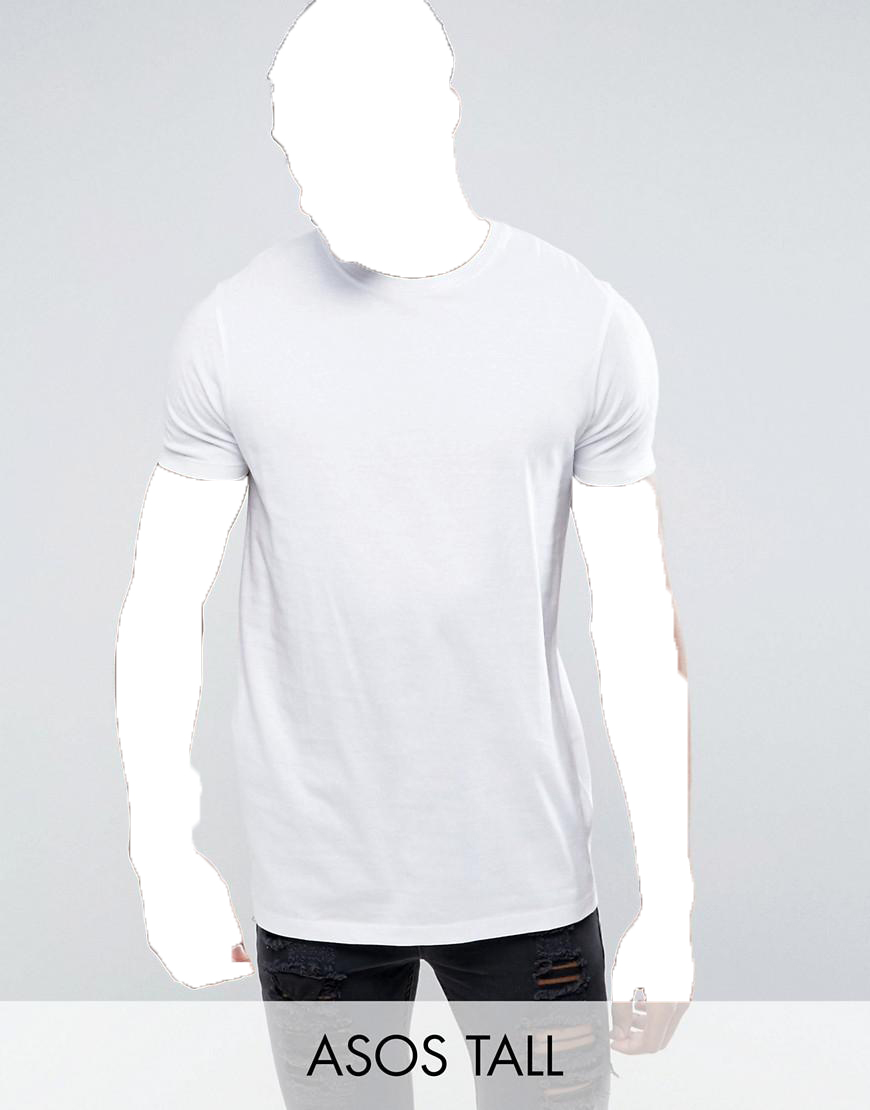teeshirt: (149, 218, 668, 940)
